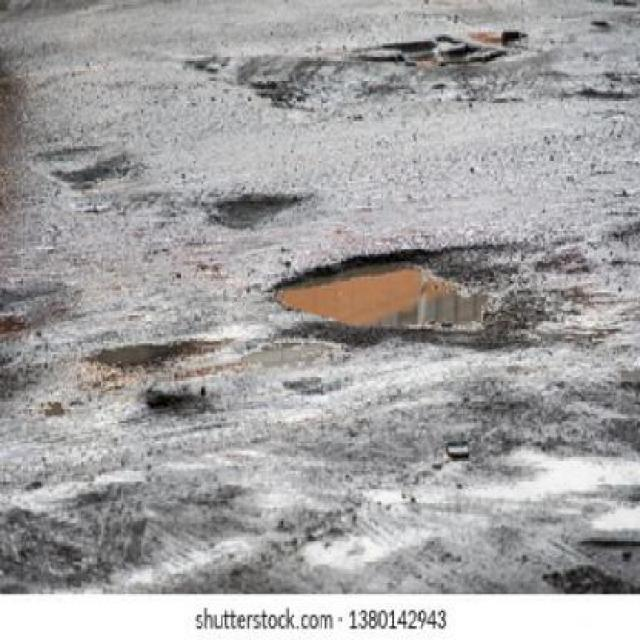Pothole: (270, 247, 501, 341)
